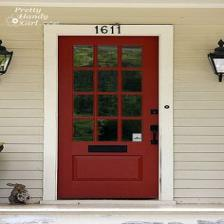red: (66, 142, 159, 199), (142, 37, 160, 198), (59, 37, 69, 198), (59, 36, 159, 46)
